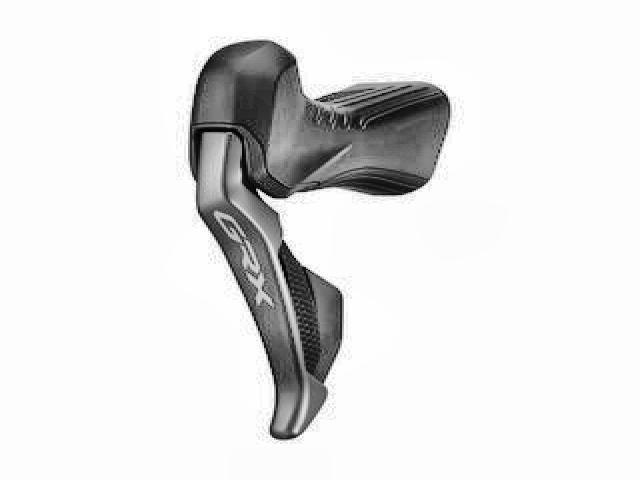sti_shifter: (187, 35, 453, 443)
